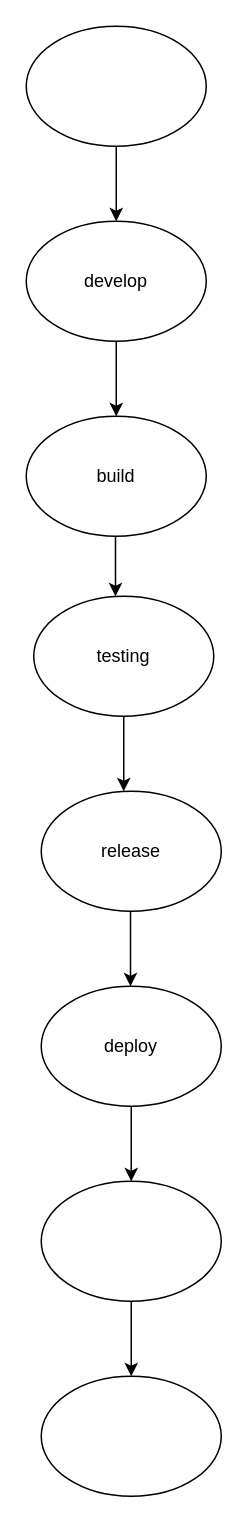
Some shapes in this 248 by 1523 pixel diagram are drawn without their labels. The centre of each missing label's shape, as x and y in pixels:
"monitoring" belongs at (130,1240).
"plan" belongs at (115,85).
